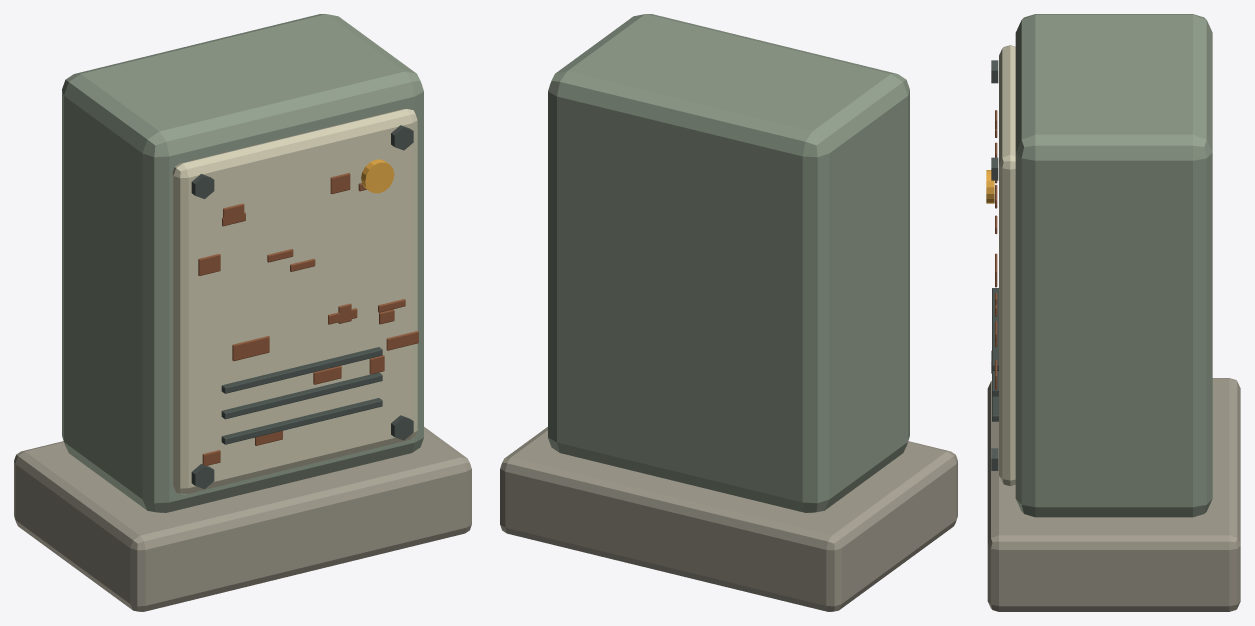
The model's file is Power_Cabinet_Barren.glb.
The picture shows the model from 3 angles, left to right: view 1: azimuth 30°, elevation 25°; view 2: azimuth 150°, elevation 25°; view 3: azimuth 270°, elevation 25°; orthographic projection.
Visible parts, largest first — view 1: Structure; view 2: Structure; view 3: Structure.
Boxes of the visible parts, box(x1,y1,x2,y2) form: Structure: box(14, 14, 471, 611); Structure: box(500, 14, 957, 611); Structure: box(986, 14, 1240, 611).
Bounding box in the file's own units: 1.4 × 1.8 × 0.905.
